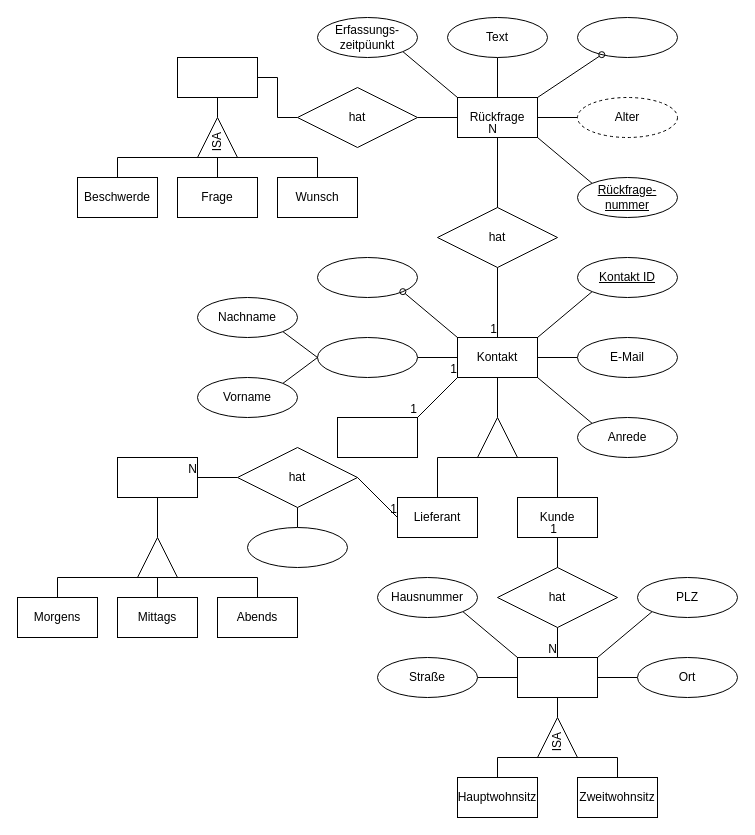
The diagram is 755 pixels wide and 835 high, and some of its shapes have lost their labels. Each missing label, with the box of its shape:
Dringlichkeit: (576, 16, 678, 58)
Hausanschrift: (516, 656, 598, 698)
Lieferungs-zeitfenster: (116, 456, 198, 498)
Name: (316, 336, 418, 378)
Rechnungs-addresse: (336, 416, 418, 458)
Telefonnummer: (316, 256, 418, 298)
Thema: (176, 56, 258, 98)
Wochentag: (246, 526, 348, 568)
